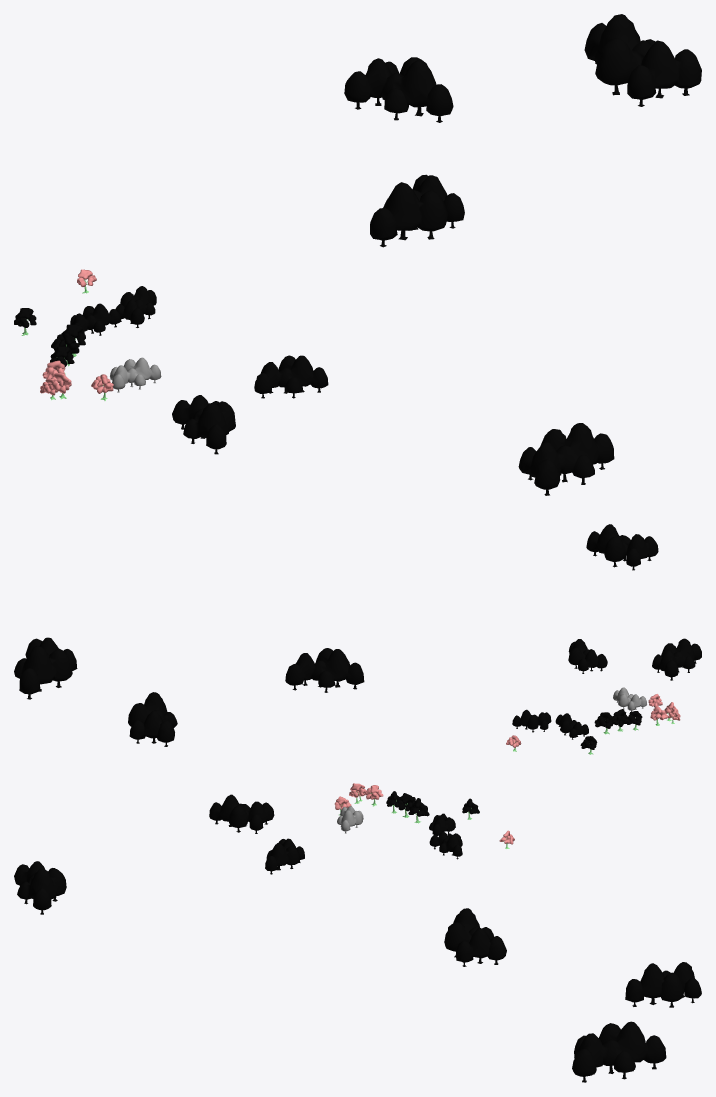
Rendered from SM_ENV_KNVLLG03_Tree_Distance_B.gltf.
The picture shows the model from 3 angles, top to bottom: view 1: azimuth 30°, elevation 25°; view 2: azimuth 150°, elevation 25°; view 3: azimuth 270°, elevation 25°; orthographic projection. The views are drawn at different scales.
Visible parts, largest first — view 1: SM_ENV_KNVLLG03_Tree_Distance_B; view 2: SM_ENV_KNVLLG03_Tree_Distance_B; view 3: SM_ENV_KNVLLG03_Tree_Distance_B.
Boxes of the visible parts, box(x1,y1,x2,y2) form: SM_ENV_KNVLLG03_Tree_Distance_B: box(14, 14, 701, 495); SM_ENV_KNVLLG03_Tree_Distance_B: box(14, 524, 701, 754); SM_ENV_KNVLLG03_Tree_Distance_B: box(14, 783, 701, 1082).
Bounding box in the file's own units: 429 × 33.93 × 430.
